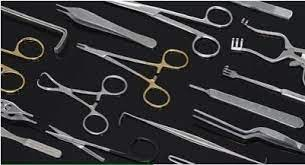fine forceps: (190, 105, 305, 157), (53, 1, 158, 51), (0, 95, 39, 127)
heavy needle holder: (73, 40, 191, 111)
mayo scissors: (103, 1, 234, 60)
metz scissors: (44, 122, 160, 164)
scalpel: (187, 81, 304, 130)
self retractor: (228, 16, 305, 89)
towel clip: (34, 70, 129, 137)
zen retractor: (117, 109, 270, 164), (0, 2, 69, 55)
